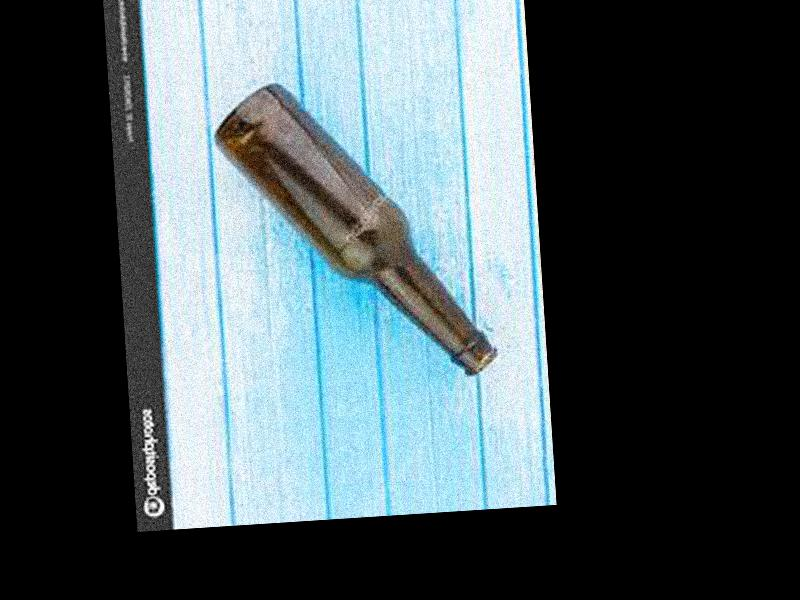Beer: (207, 69, 499, 389)
